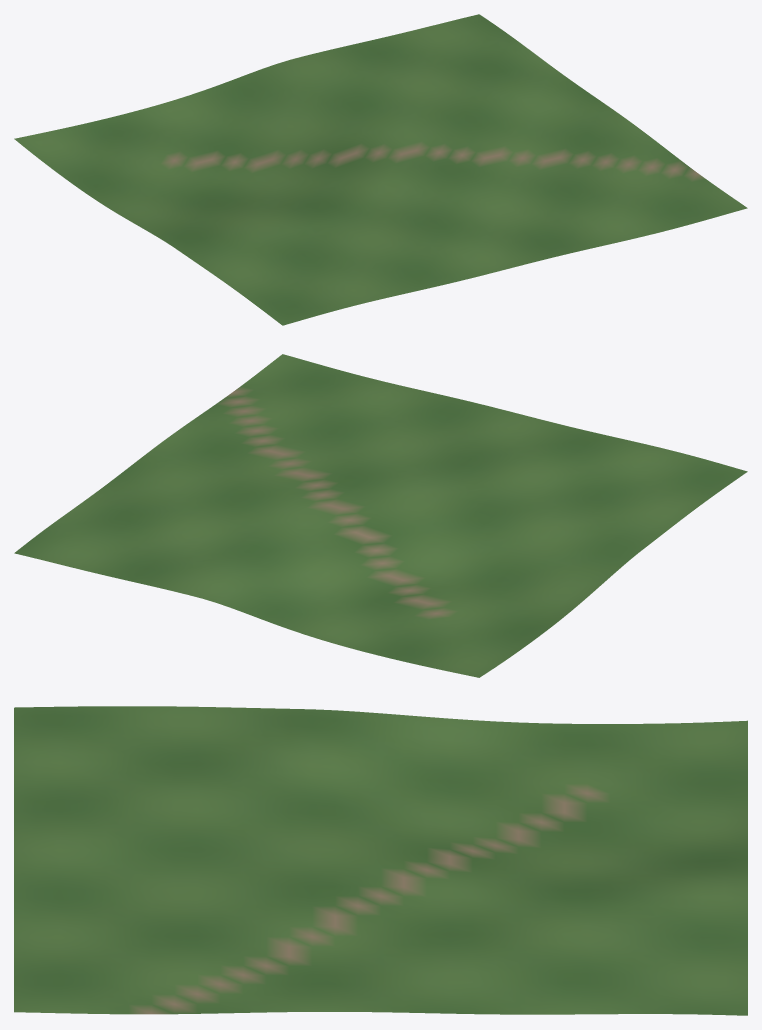
The model's file is chunk_1_1.glb.
3 renders of one model, top to bottom at view 1: azimuth 30°, elevation 25°; view 2: azimuth 150°, elevation 25°; view 3: azimuth 270°, elevation 25°, orthographic. The views are drawn at different scales.
Bounding box in the file's own units: 512 × 19.25 × 512.
